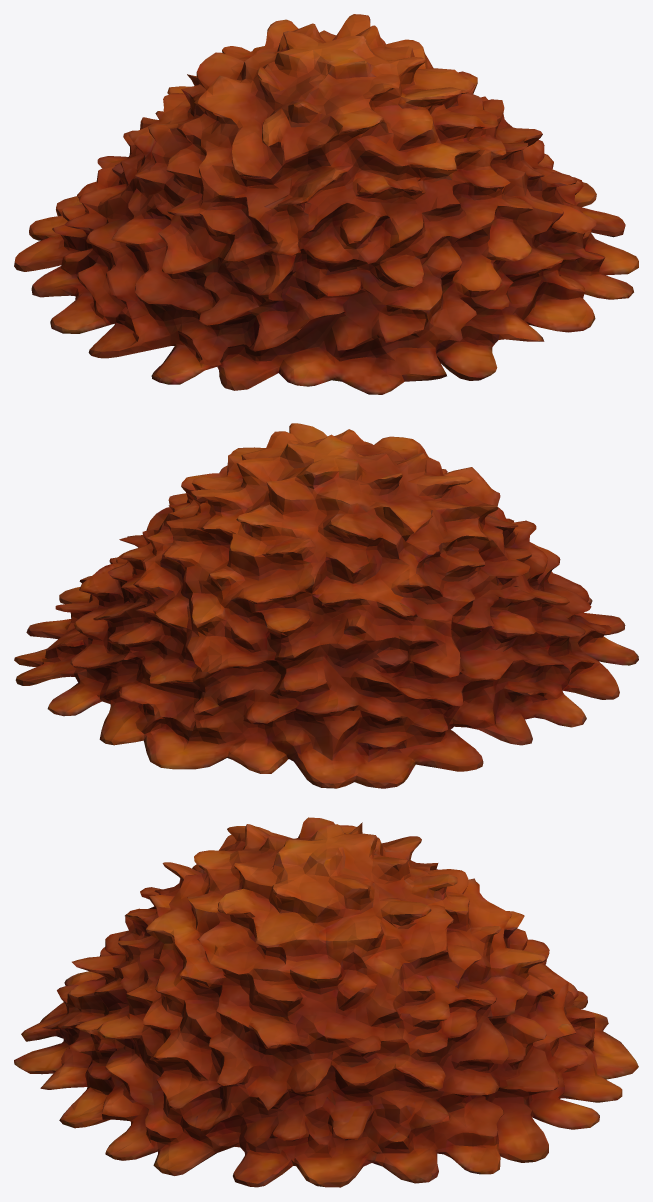
The model's file is autumn leaves pile.glb.
The picture shows the model from 3 angles, top to bottom: view 1: azimuth 30°, elevation 25°; view 2: azimuth 150°, elevation 25°; view 3: azimuth 270°, elevation 25°; orthographic projection. The views are drawn at different scales.
Parts seen in each view (by area): view 1: world; view 2: world; view 3: world.
Part boxes in pixels (x1,y1,x2,y2): world: [14, 14, 638, 394]; world: [14, 423, 638, 788]; world: [14, 817, 638, 1187].
Bounding box in the file's own units: 0.9978 × 0.3947 × 0.9981.
1 material, 1 textured.
